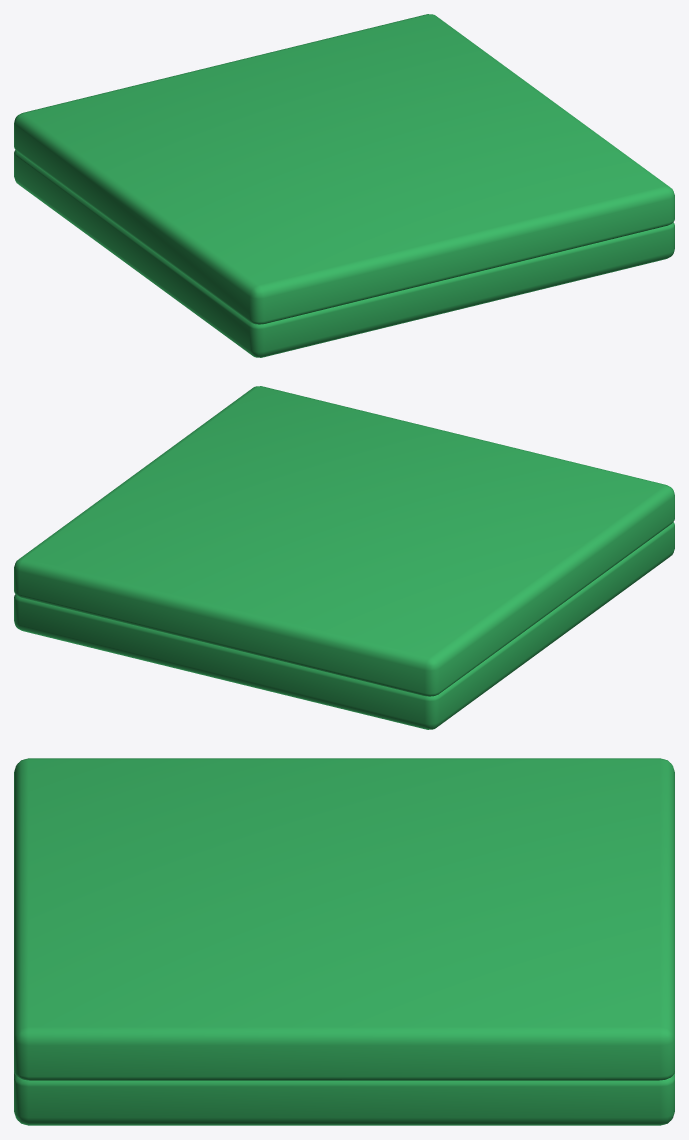
The model's file is Platform_SchoolTheme.fbx.
3 views of the same model, one above another, from view 1: azimuth 30°, elevation 25°; view 2: azimuth 150°, elevation 25°; view 3: azimuth 270°, elevation 25° (orthographic). The views are drawn at different scales.
Visible parts, largest first — view 1: tileLarge_teamBlue; view 2: tileLarge_teamBlue; view 3: tileLarge_teamBlue.
Part boxes in pixels (x1,y1,x2,y2): tileLarge_teamBlue: [14, 14, 674, 357]; tileLarge_teamBlue: [14, 386, 674, 729]; tileLarge_teamBlue: [14, 758, 674, 1125].
Bounding box in the file's own units: 4.8 × 0.78 × 4.8.
